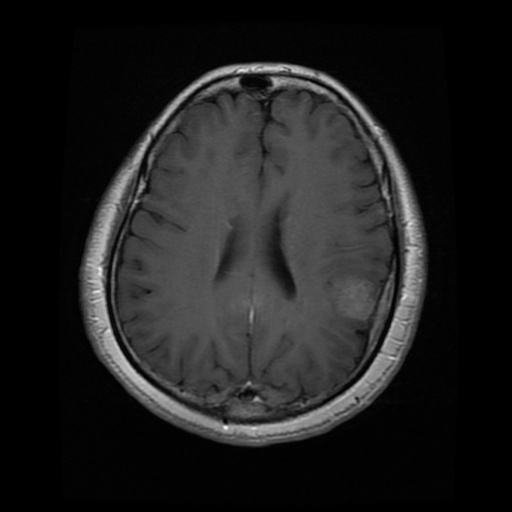meningioma: (331, 271, 380, 320)
